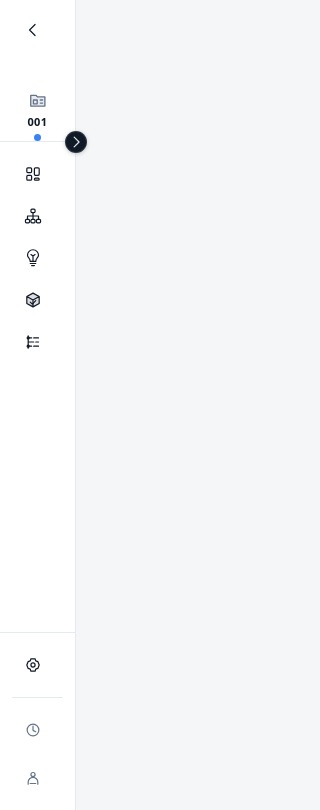
Test: H12 runtime flyout geometry › G: closing the flyout clears geometry and branch state
Click the button named "Coordination": (38, 216) [12,196,63,236]
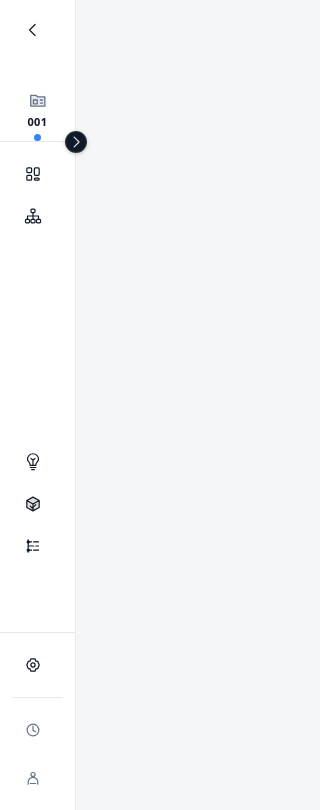
Click the button named "Coordination": (38, 216) [12,196,63,236]
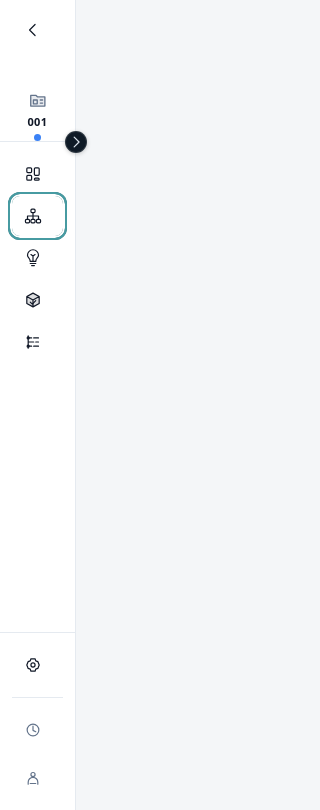
Expected: the element with test id "v4-minimal-tree" is gone
Expected: the element with test id "v4-minimal-subtree" is gone
